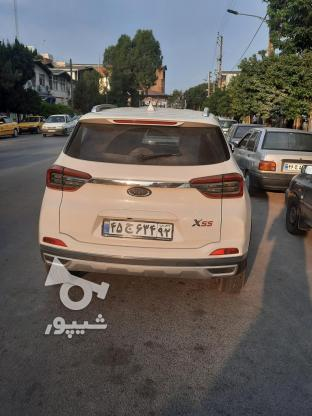car: (101, 220, 175, 240), (282, 161, 312, 172)
